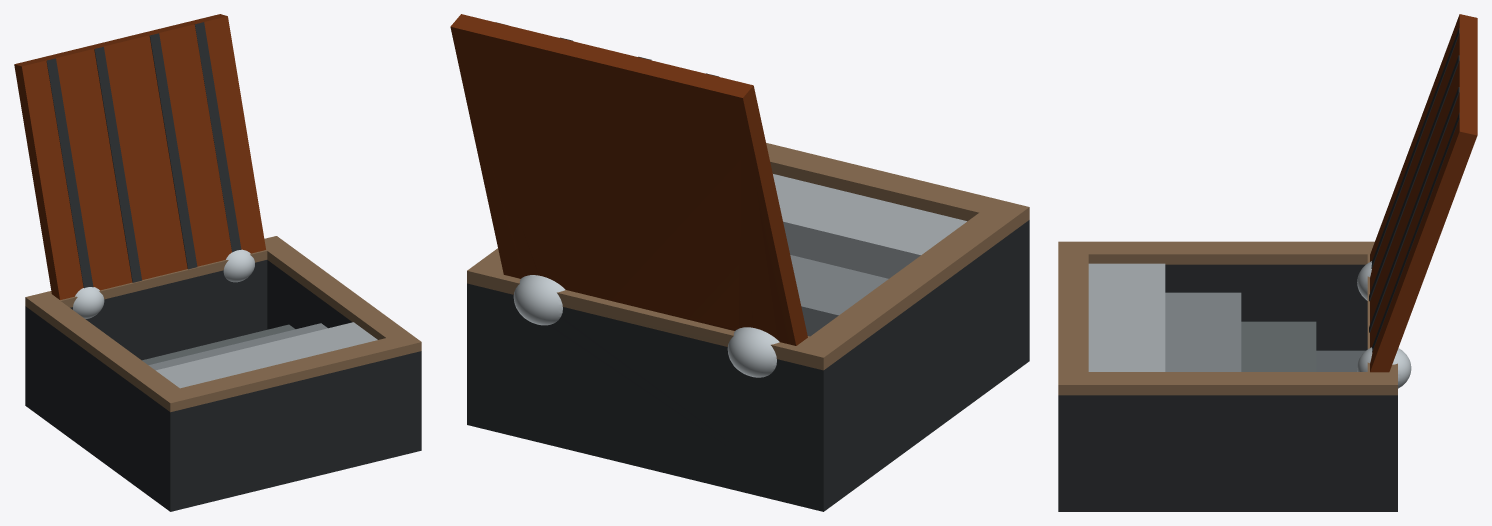
The model's file is Exit.fbx.
3 renders of one model, left to right at view 1: azimuth 30°, elevation 25°; view 2: azimuth 150°, elevation 25°; view 3: azimuth 270°, elevation 25°, orthographic. The views are drawn at different scales.
Parts seen in each view (by area): view 1: obj_0; view 2: obj_0; view 3: obj_0.
Boxes of the visible parts, bbox=[...] form: obj_0: bbox=[14, 14, 421, 511]; obj_0: bbox=[450, 14, 1029, 511]; obj_0: bbox=[1058, 14, 1477, 511].
Bounding box in the file's own units: 100 × 120 × 123.
